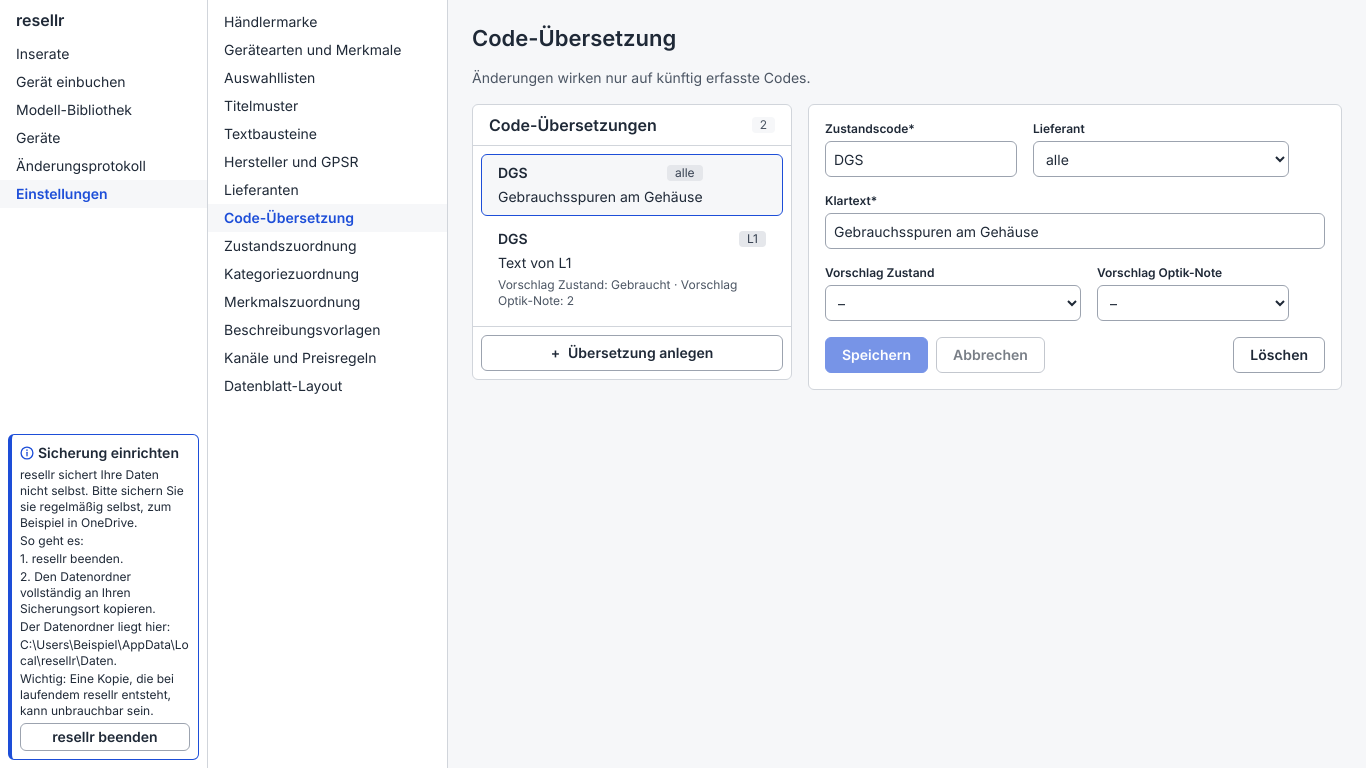
Test: UI-033 condition codes (CU-100) › UI-033.success DER-38-03 a change sends the version read and shows "Gespeichert", which closes after 5 s
Expected: the field labelled "Zustandscode*" holds "DGS", [825, 141, 1017, 177]
Replace the text in the field labelled "Klartext*" with "Deutliche Gebrauchsspuren" at (1075, 231), box [825, 213, 1325, 249]
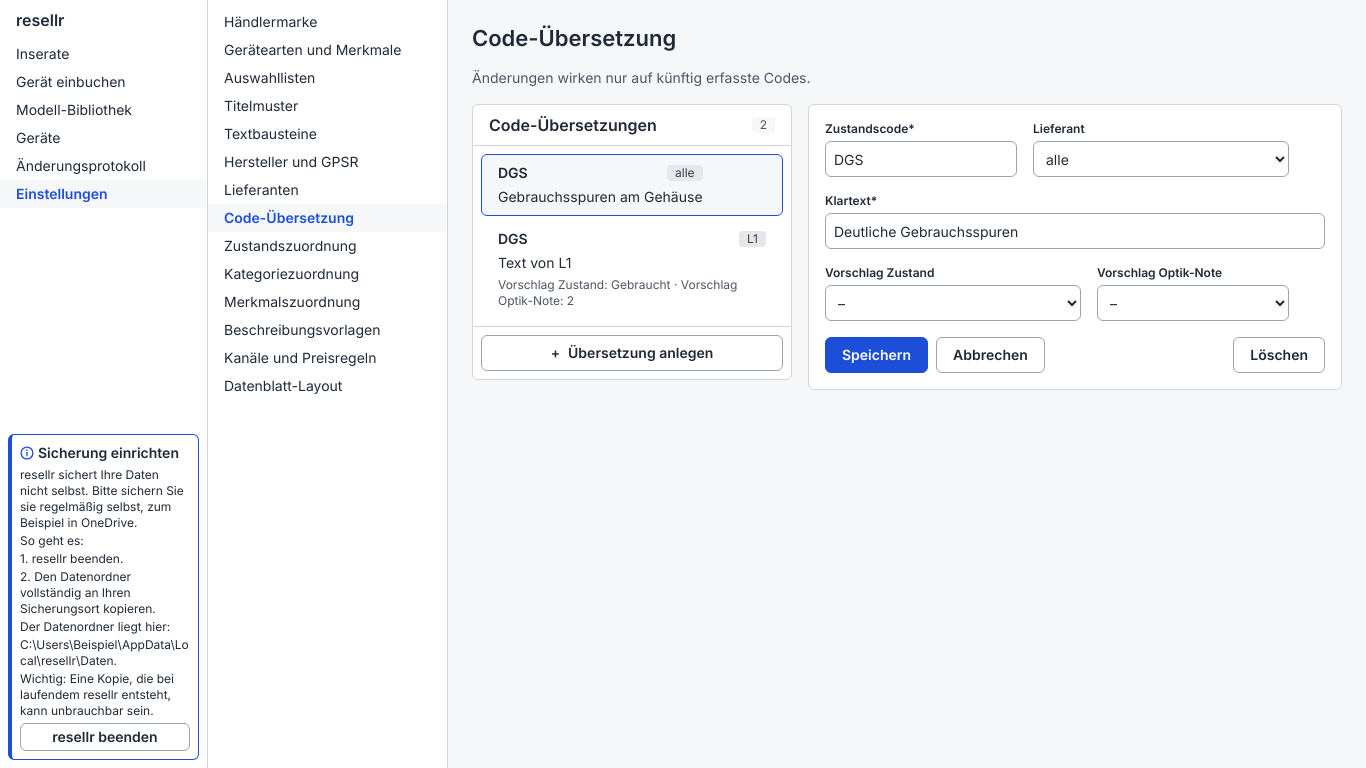
Click the button "Speichern" at (877, 355), box [825, 337, 928, 373]
Wait 5000 ms
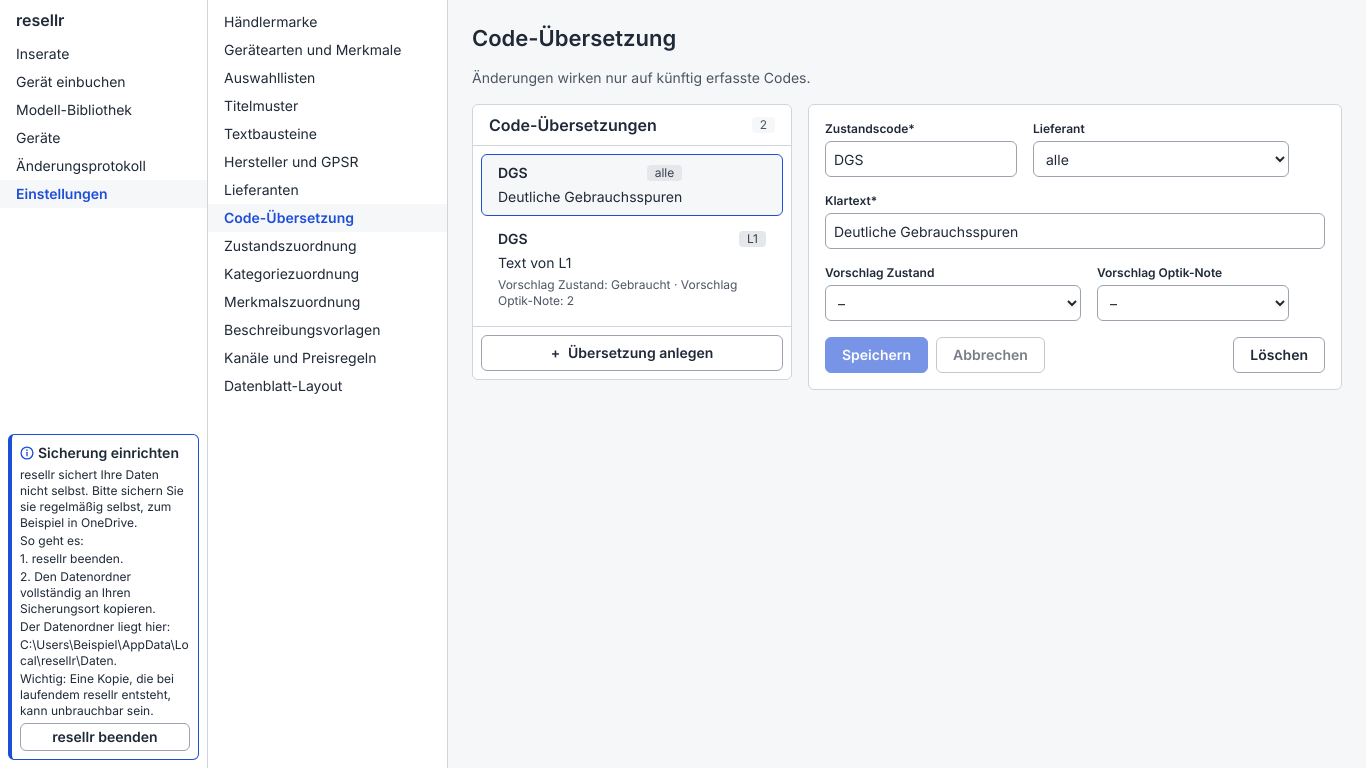
Expected: the dropdown labelled "Lieferant" is shown, [1033, 141, 1289, 177]
Expected: the button "DGS alle Deutliche Gebrauchsspuren" is shown, [481, 154, 783, 216]
